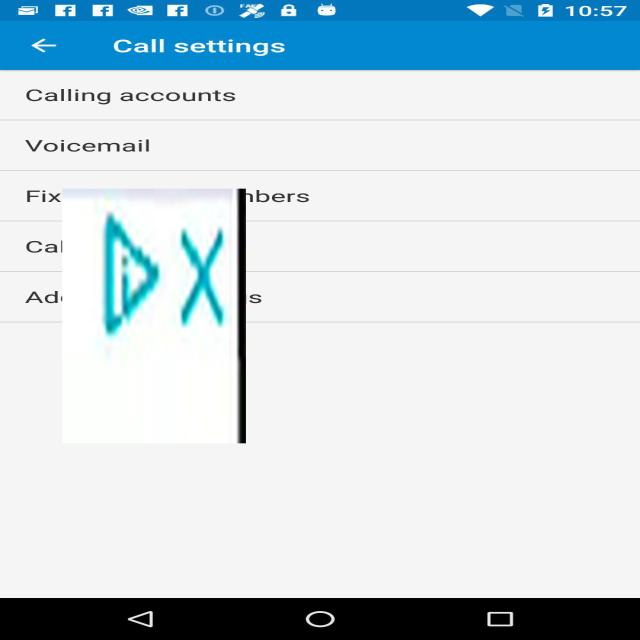sneaking: (62, 189, 246, 443)
